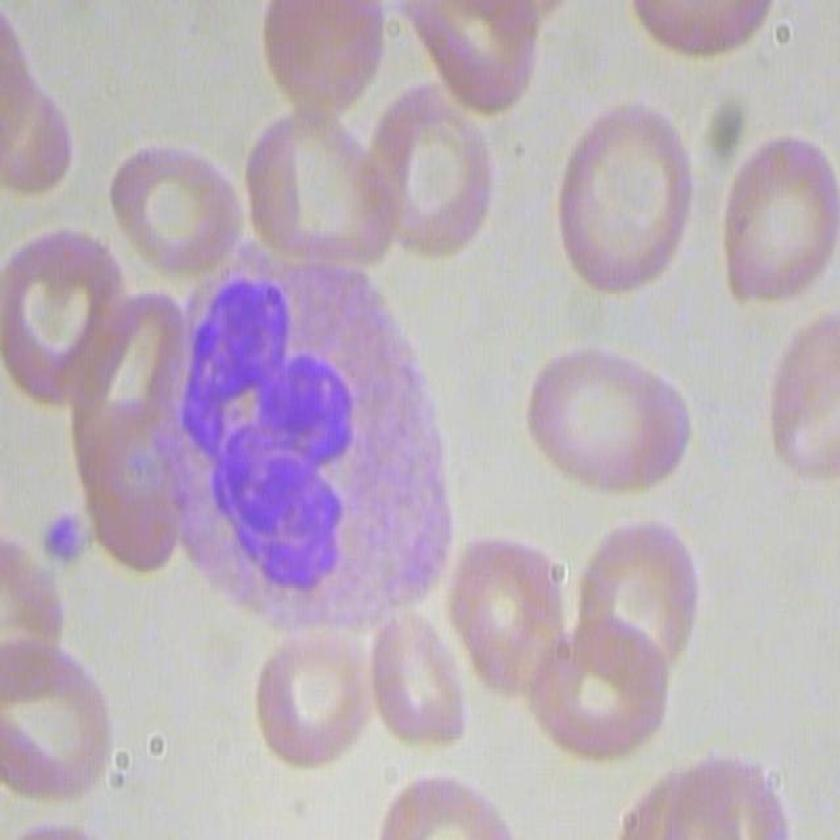neutrophil: (165, 259, 455, 621)
